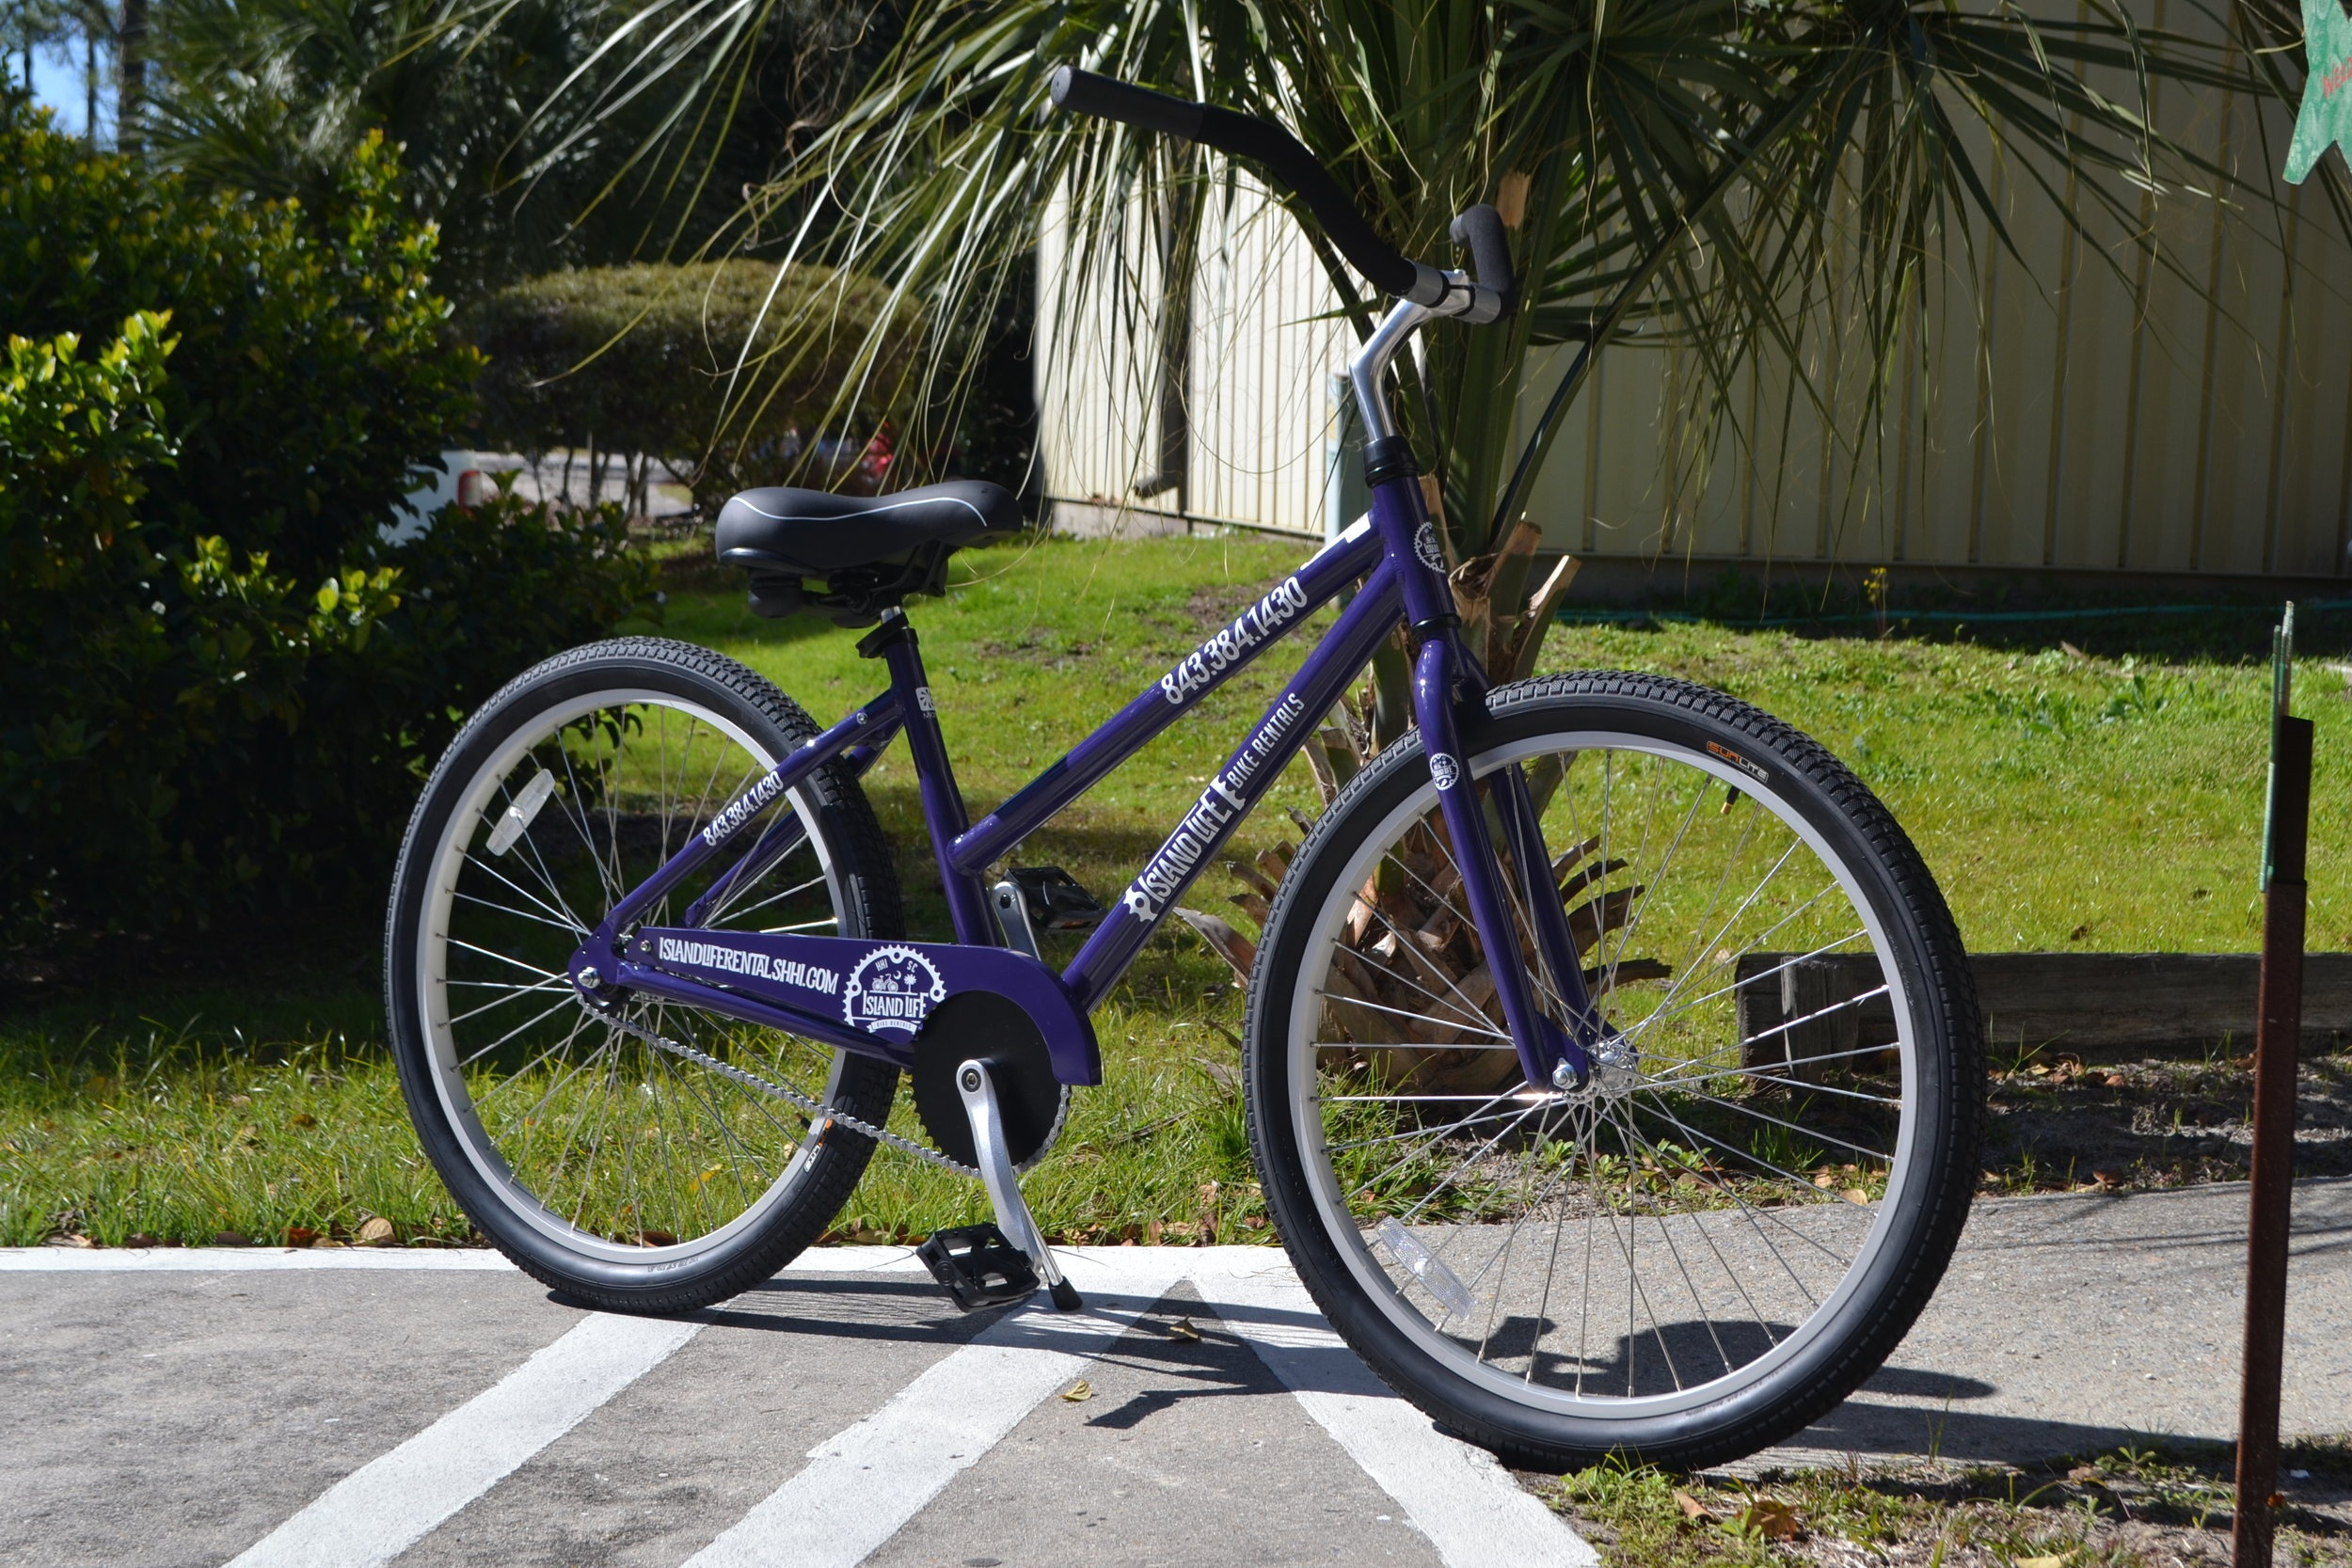bike: (299, 156, 2119, 1519)
